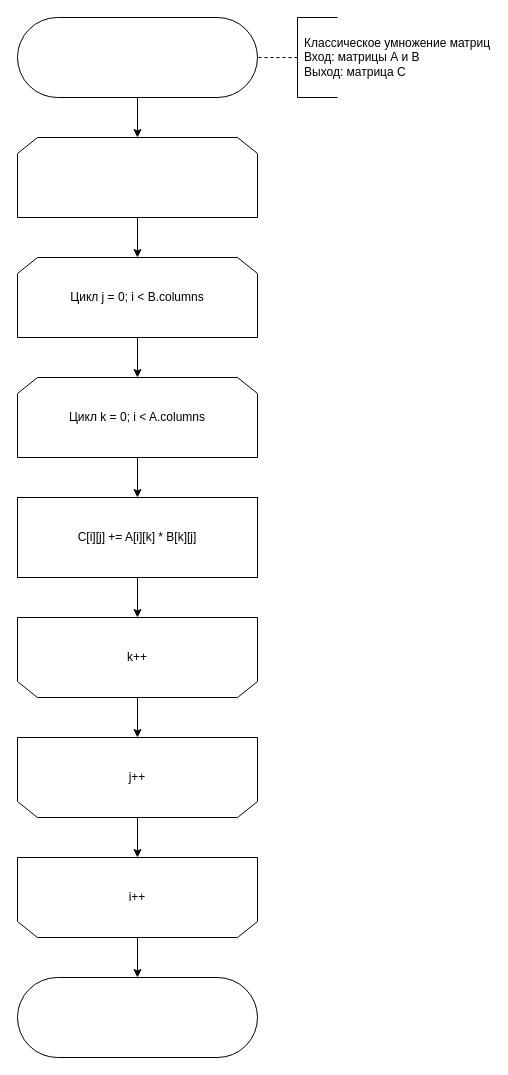
Image size: 508x1075. Some labels were removed from this diagram. Each missing label, with the centre of its shape:
"Конец" goes at point 137,1017.
"Начало" goes at point 137,57.
"Цикл i = 0; i < A.rows" goes at point 137,177.
